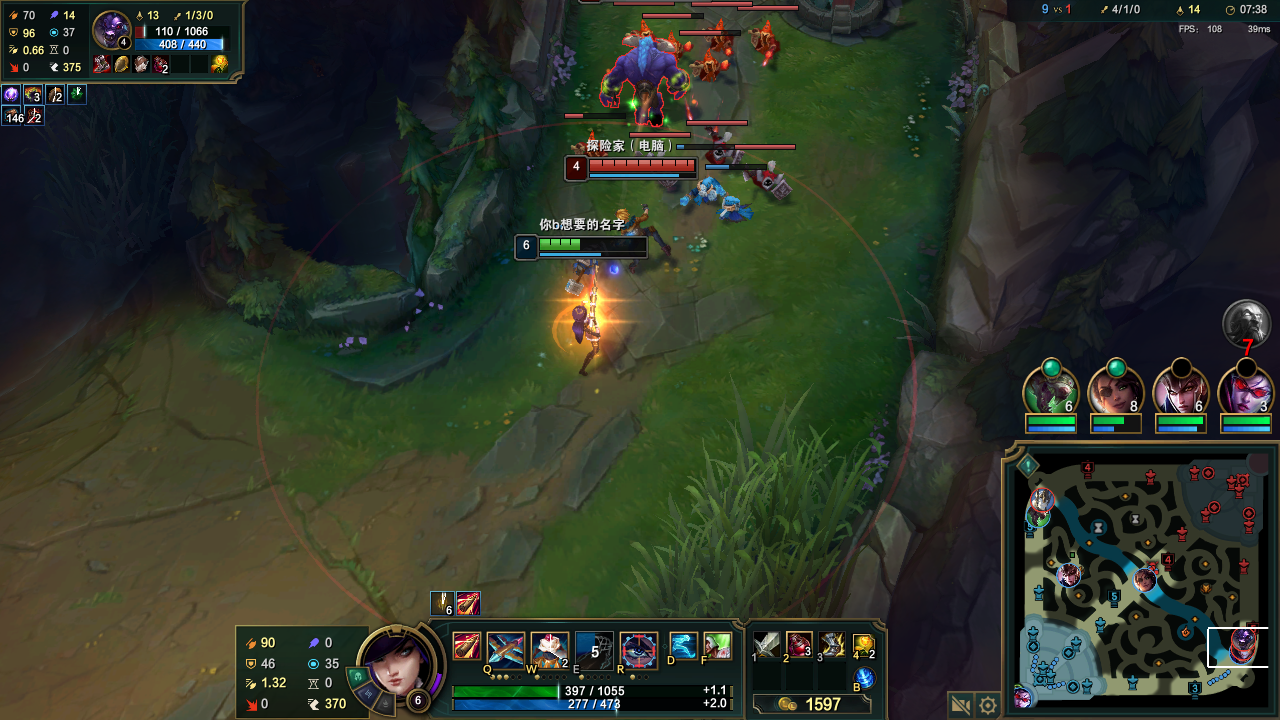DFXB: (746, 159, 788, 200), (696, 50, 732, 85), (703, 20, 731, 50), (708, 130, 732, 163), (753, 28, 777, 58), (668, 33, 690, 57)
DFYX: (591, 159, 690, 172)
WFXB: (719, 193, 747, 221), (695, 176, 718, 200)
